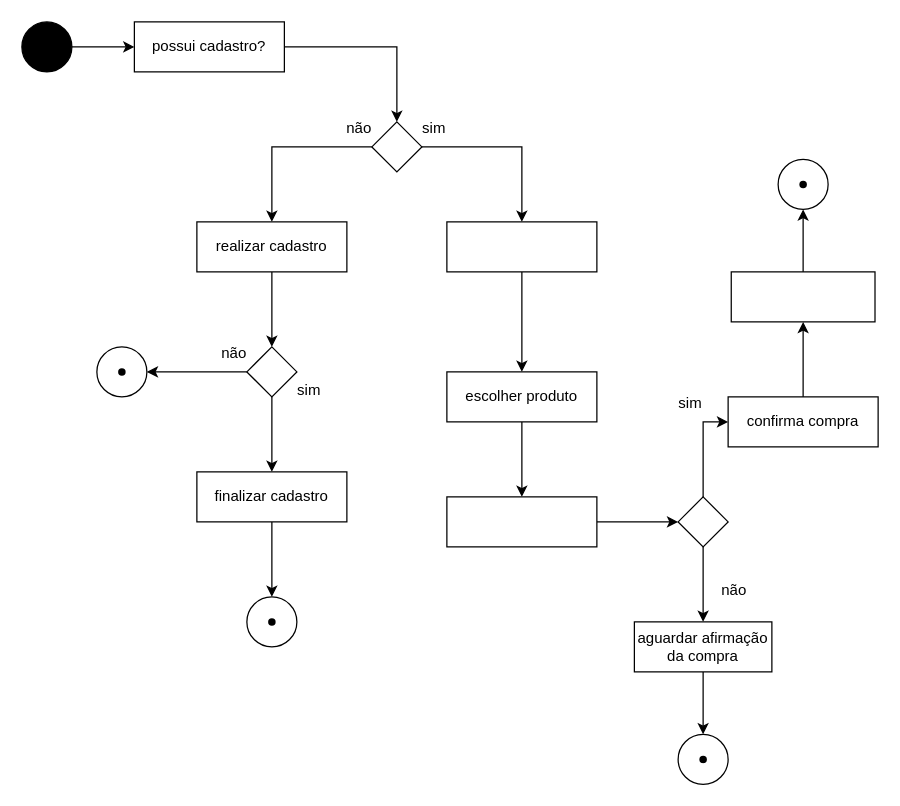
The diagram is 900 pixels wide and 806 high, and some of its shapes have lost their labels. The centre of each missing label's shape, as x and y in pixels:
confirma envio/entrega: pixel 802 296
faz cadastro: pixel 521 246
solicitar confirmação compra: pixel 521 521
